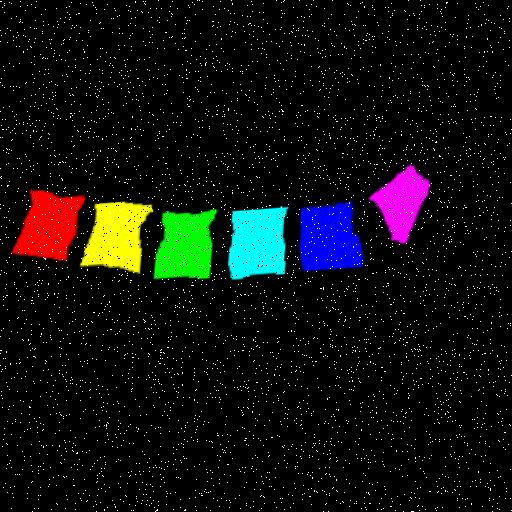L1: (17, 190, 88, 261)
L2: (86, 203, 156, 274)
L3: (160, 212, 219, 281)
L4: (237, 211, 293, 283)
L5: (305, 207, 368, 275)
S1: (374, 172, 433, 248)
